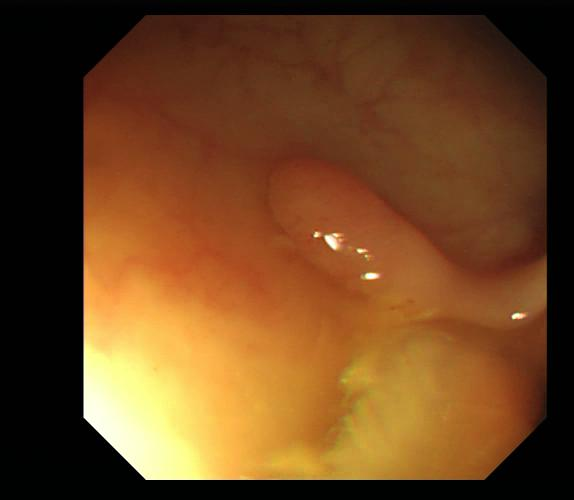polyp: (261, 148, 453, 309)
